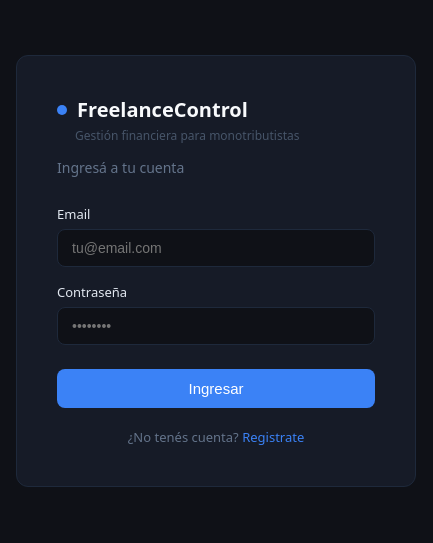
desde el login se puede navegar al registro
The width and height of the screenshot is (433, 543).
Click the link "Registrate". click: click(273, 437)
box: [242, 428, 304, 446]
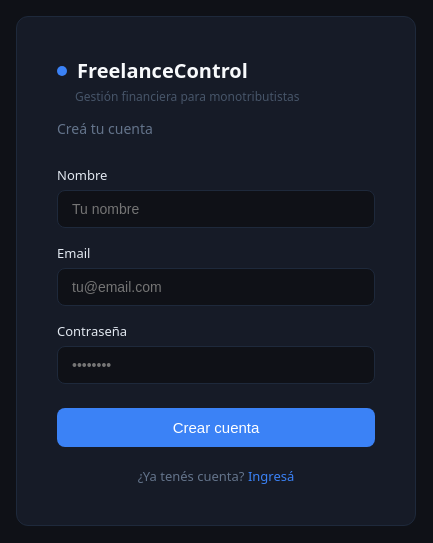
Expected: the text "Creá tu cuenta" is shown, [57, 119, 153, 138]
